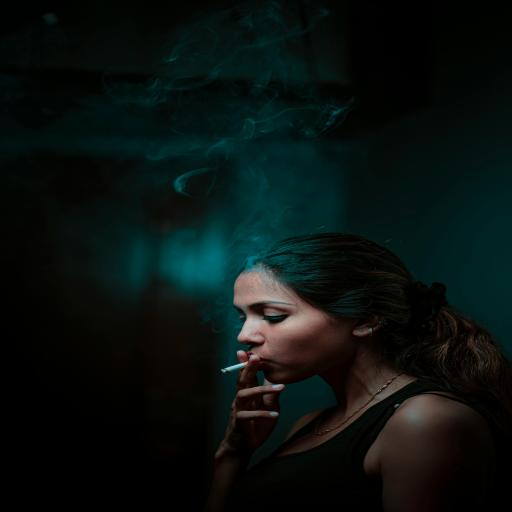terdeteksi merokok: (207, 285, 328, 397)
